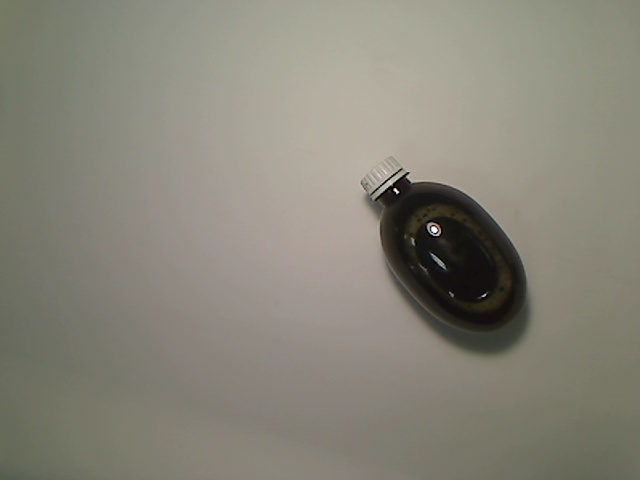plast_bottle: (357, 153, 529, 337)
